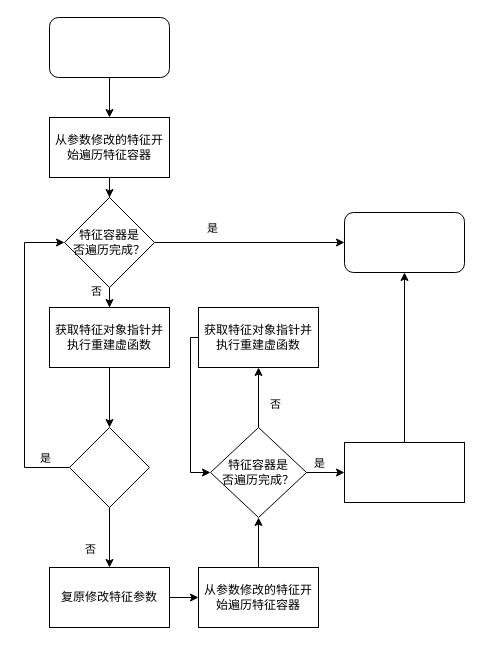
Some shapes in this 482 by 645 pixel diagram are drawn without their labels. Each missing label, with the box of its shape:
开始: (48, 16, 170, 78)
弹出提示对话框提示模型重建失败: (344, 442, 464, 502)
结束: (344, 212, 464, 272)
重建函数 是否成功？: (68, 426, 150, 508)
